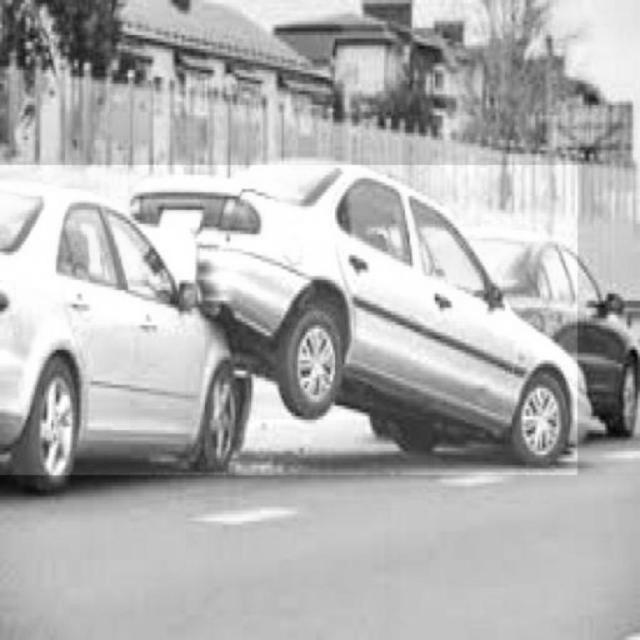accident: (0, 167, 636, 475)
